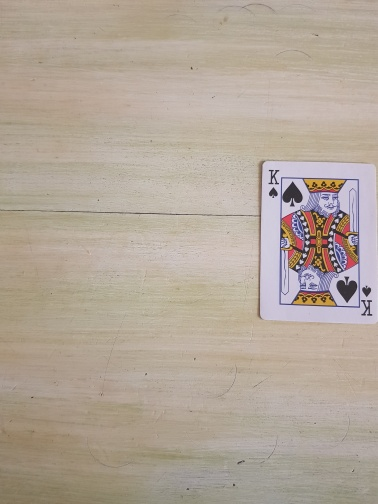king: (257, 158, 378, 325)
